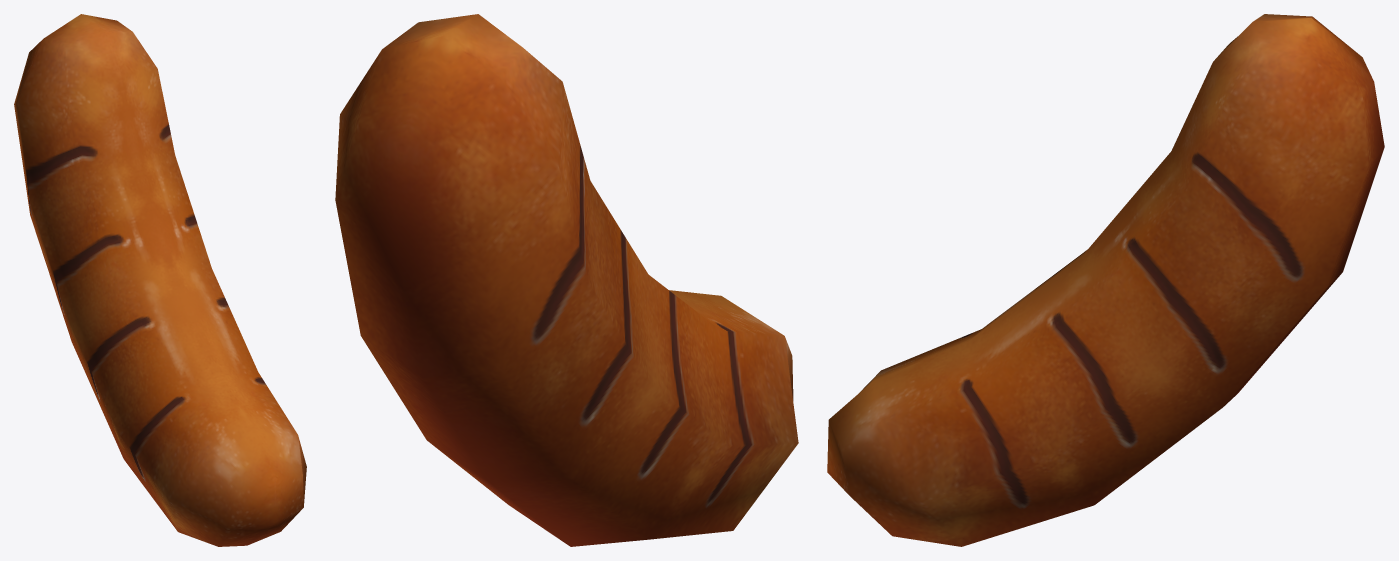
Rendered from Item-Sausage_Anim.FBX.
3 views of the same model, side by side, from view 1: azimuth 30°, elevation 25°; view 2: azimuth 150°, elevation 25°; view 3: azimuth 270°, elevation 25° (orthographic). The views are drawn at different scales.
Visible parts, largest first — view 1: Sausages; view 2: Sausages; view 3: Sausages.
Part boxes in pixels (x1,y1,x2,y2): Sausages: [14, 14, 306, 546]; Sausages: [335, 14, 798, 546]; Sausages: [827, 14, 1384, 546].
Bounding box in the file's own units: 11.41 × 31.44 × 30.77.
